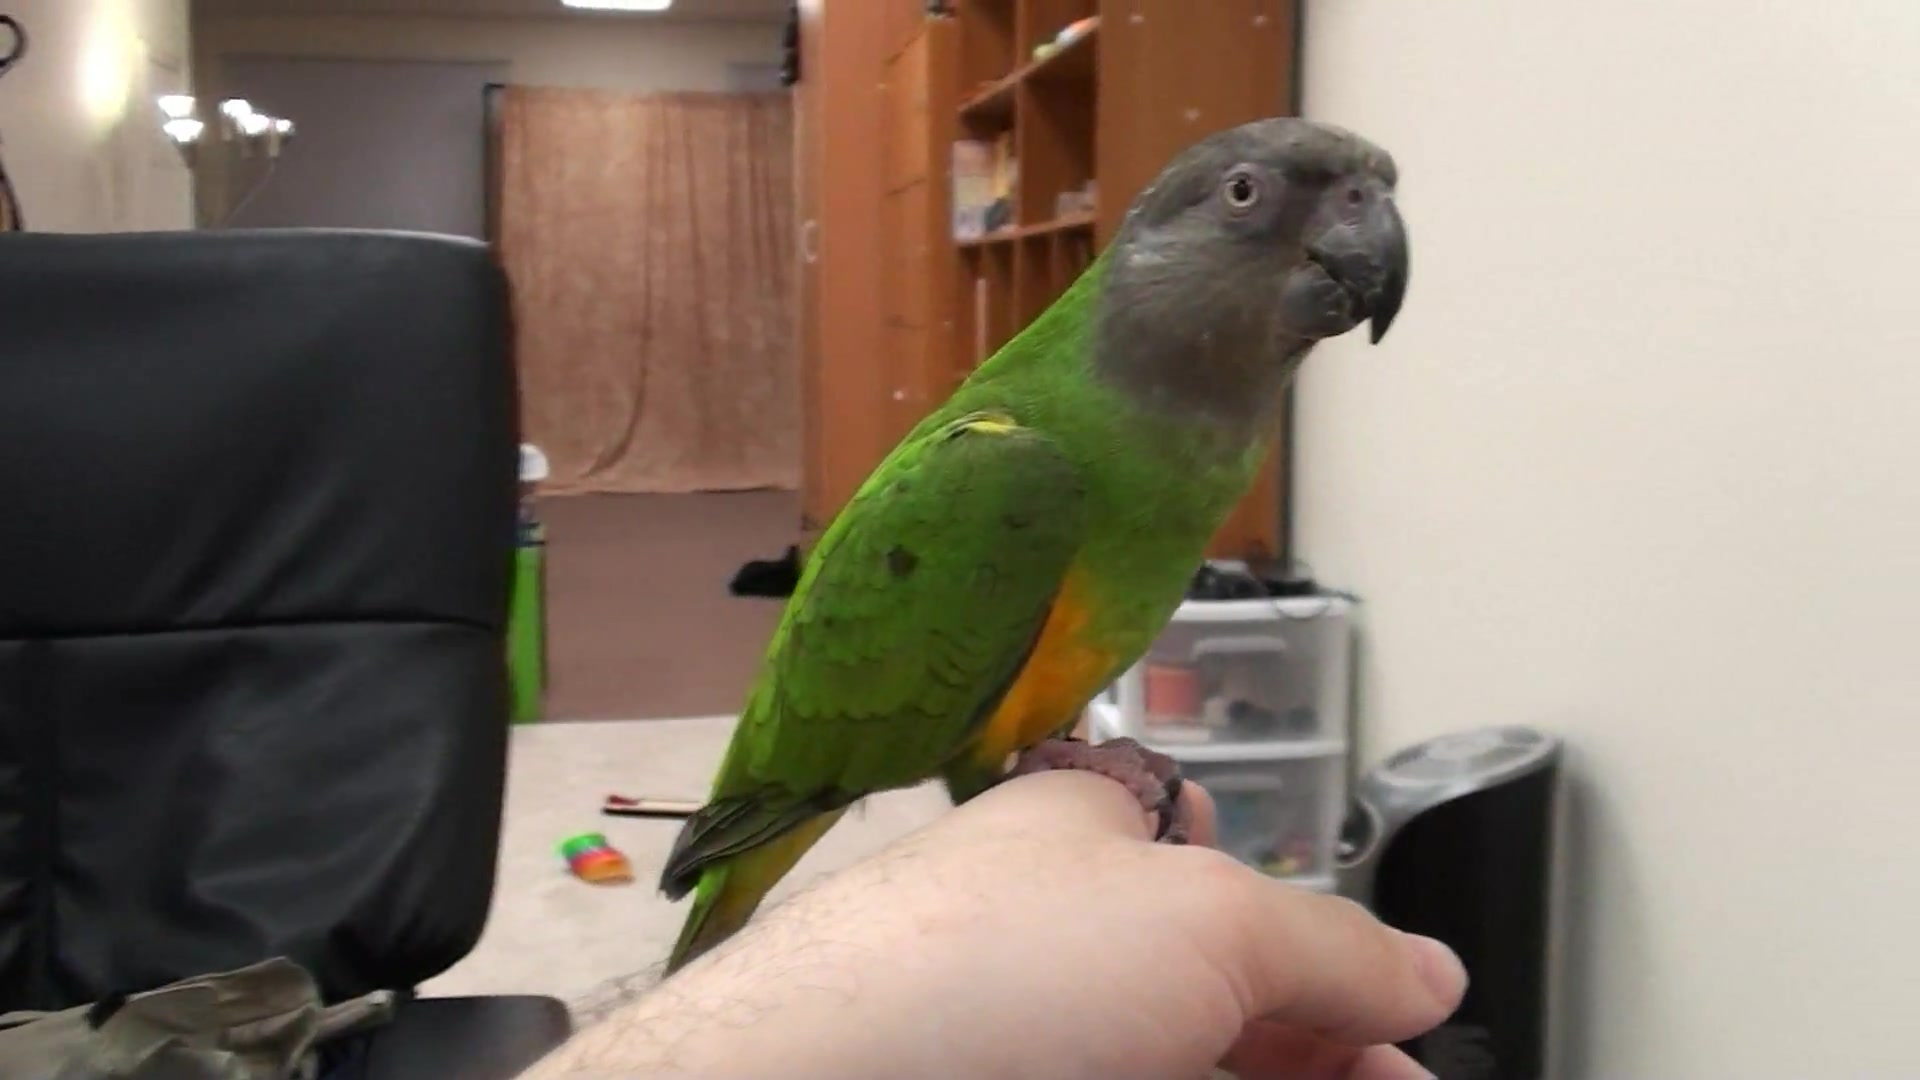bird: (661, 113, 1415, 980)
